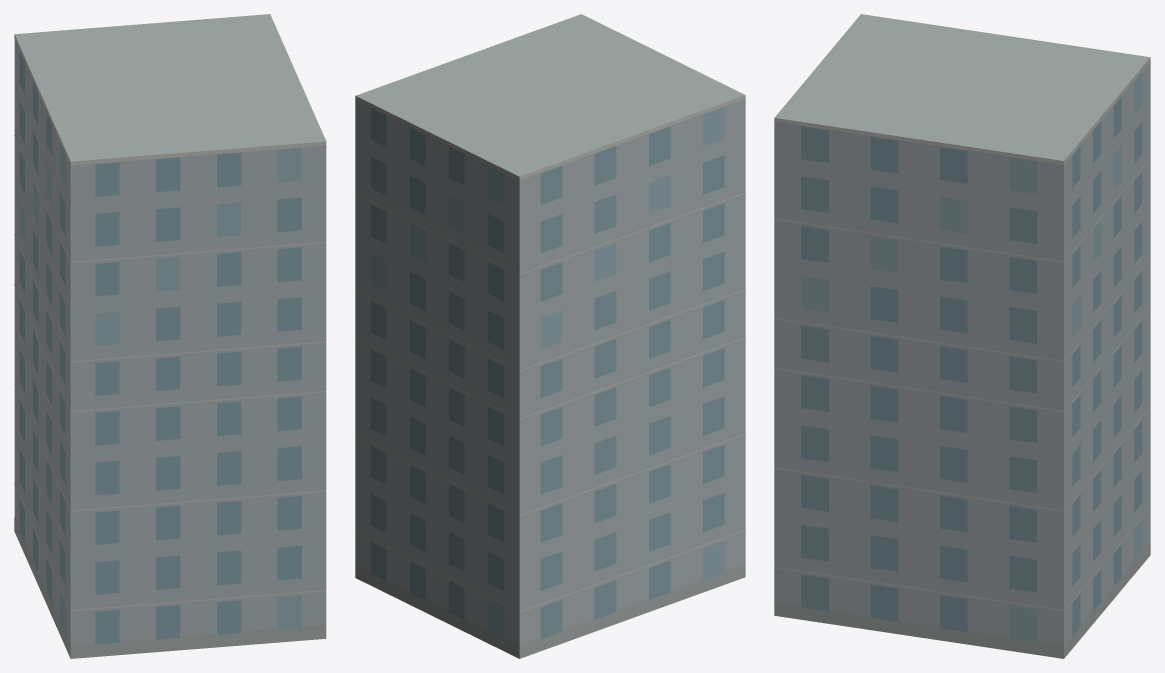
Rendered from residential-db60c13a-b56e-4030-9876-a66e0b4b17a7.glb.
3 views of the same model, side by side, from view 1: azimuth 30°, elevation 25°; view 2: azimuth 150°, elevation 25°; view 3: azimuth 270°, elevation 25° (orthographic). The views are drawn at different scales.
Visible parts, largest first — view 1: residential-db60c13a-b56e-4030-9876-a66e0b4b17a7.tmp; view 2: residential-db60c13a-b56e-4030-9876-a66e0b4b17a7.tmp; view 3: residential-db60c13a-b56e-4030-9876-a66e0b4b17a7.tmp.
Part boxes in pixels (<box>): residential-db60c13a-b56e-4030-9876-a66e0b4b17a7.tmp: <box>14,14,326,658</box>; residential-db60c13a-b56e-4030-9876-a66e0b4b17a7.tmp: <box>355,14,745,658</box>; residential-db60c13a-b56e-4030-9876-a66e0b4b17a7.tmp: <box>774,14,1150,658</box>.
Bounding box in the file's own units: 19.34 × 30.5 × 20.91.
